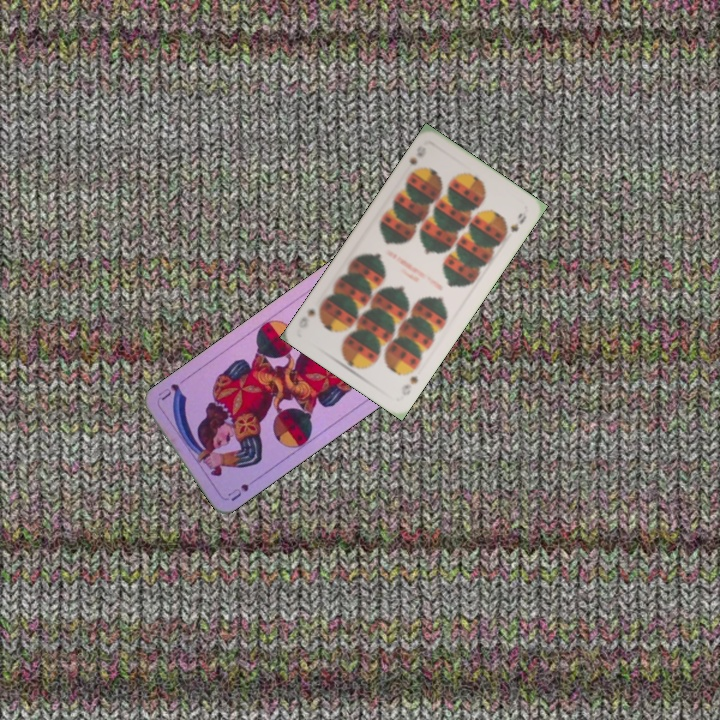S9: (397, 371, 421, 398), (405, 153, 420, 178)
SU: (224, 479, 252, 504)
